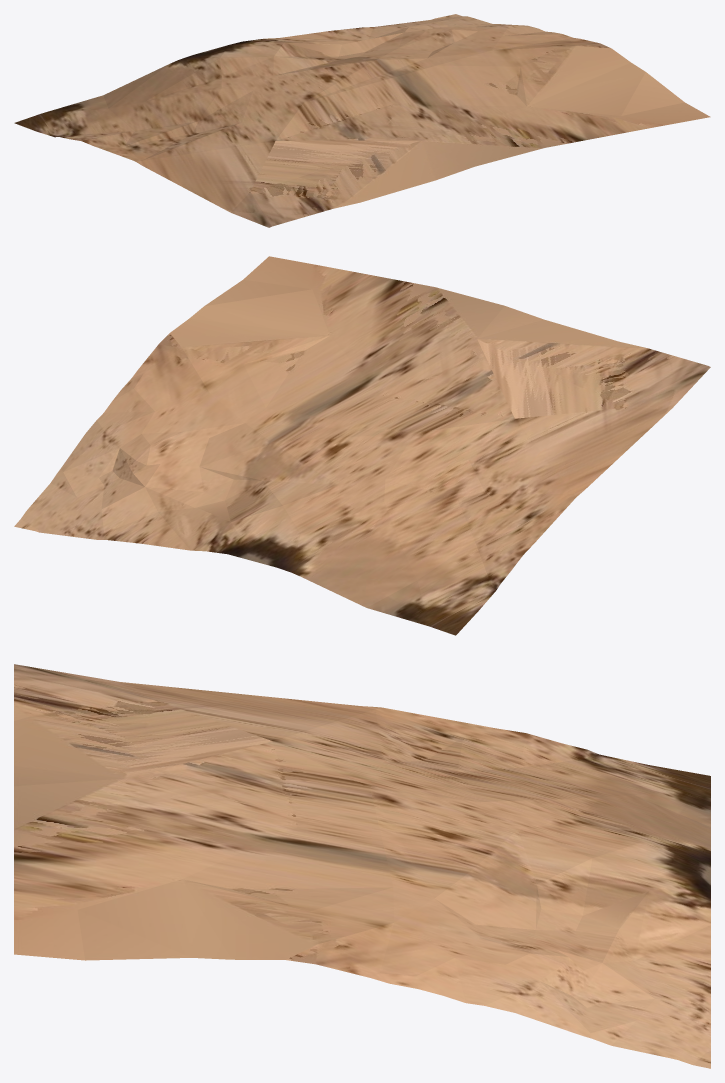
The picture shows the model from 3 angles, top to bottom: view 1: azimuth 30°, elevation 25°; view 2: azimuth 150°, elevation 25°; view 3: azimuth 270°, elevation 25°; orthographic projection. The views are drawn at different scales.
Bounding box in the file's own units: 1.04 × 0.2136 × 1.04.
Materials: 2 (2 with a texture image).
